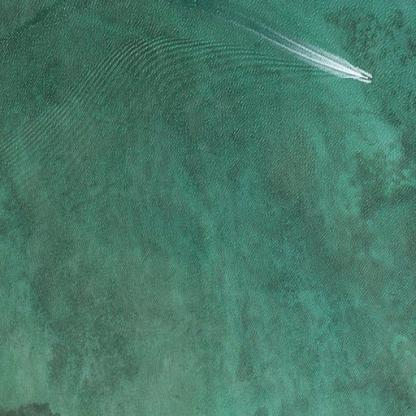ship: (366, 76, 372, 79)
